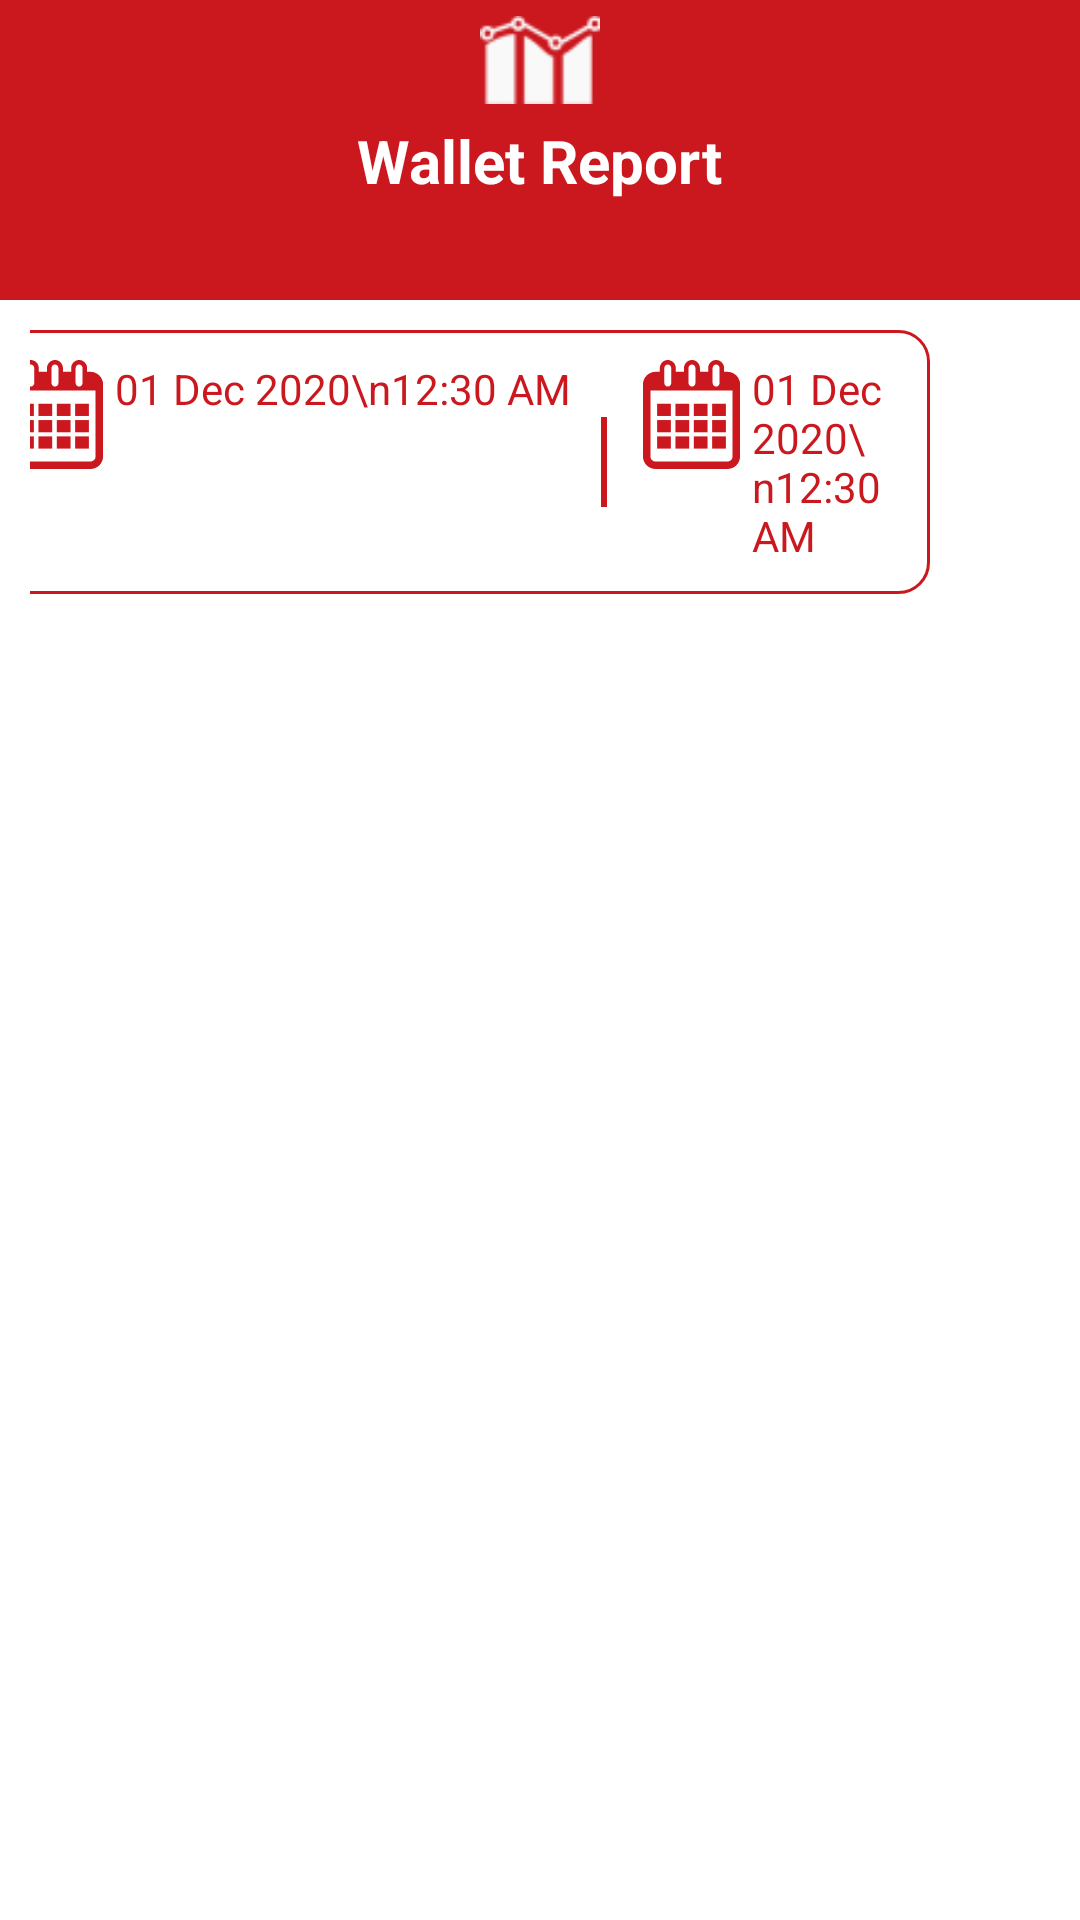

Icon bounding boxes for this 1080w x 1920h phone screenshot, format (x1, y1, x2, y2):
reciept report: (480, 16, 600, 104)
